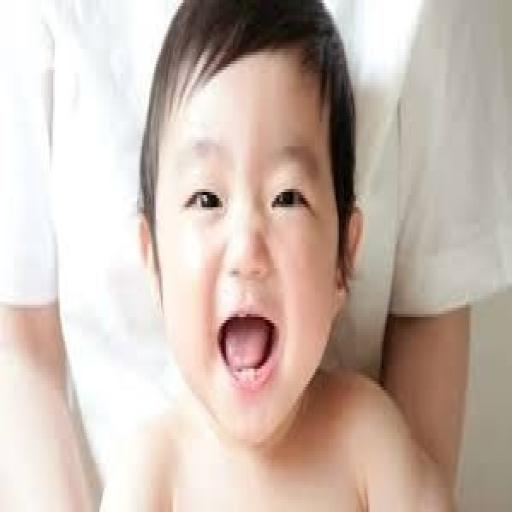laughing: (132, 3, 370, 451)
